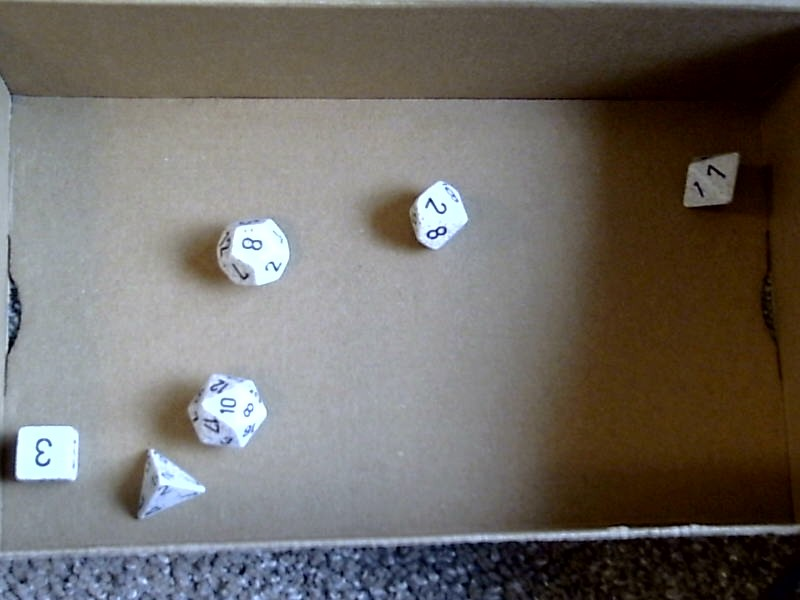d10 2: (404, 175, 471, 260)
d12 8: (208, 210, 300, 292)
d20 10: (182, 364, 278, 455)
d4 2: (129, 450, 203, 536)
d6 3: (3, 415, 86, 488)
d8 7: (675, 146, 750, 215)
